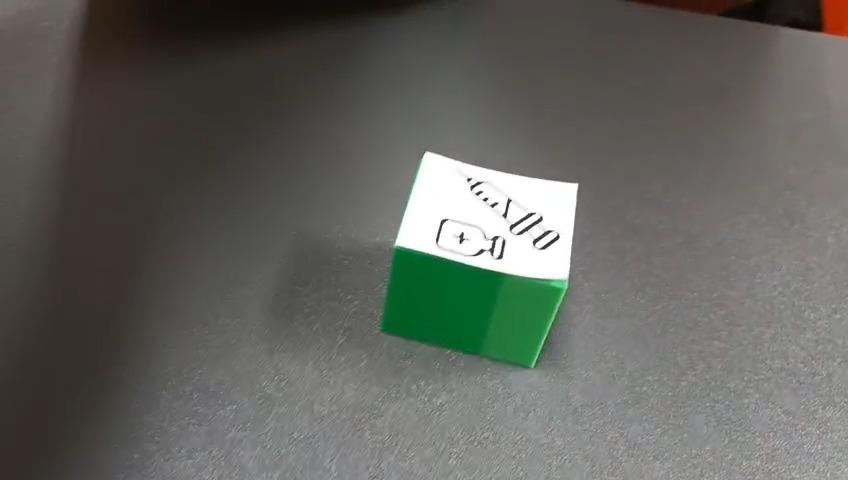antiseptic cream: (378, 149, 579, 369)
